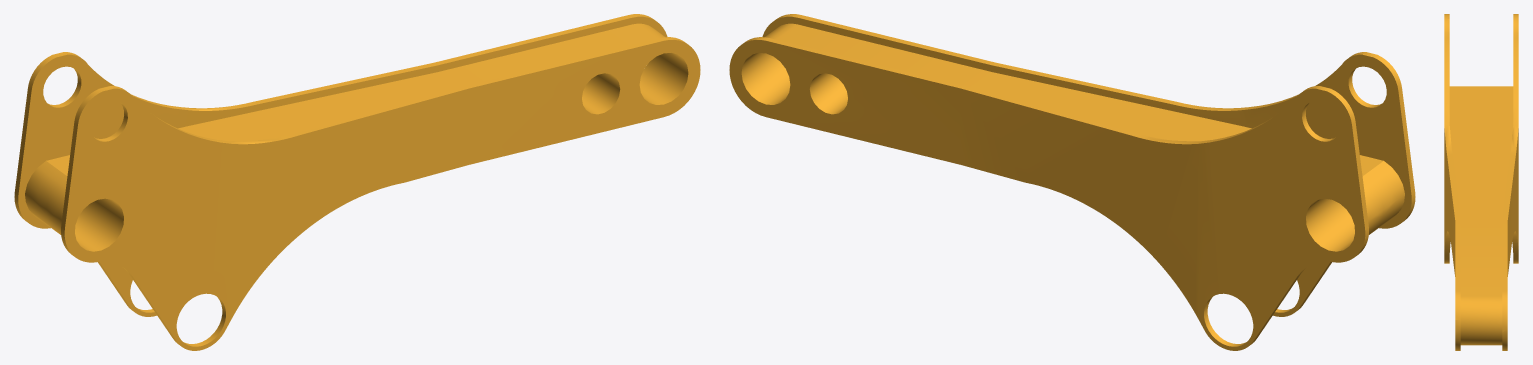
The model's file is body3.dae.
3 renders of one model, left to right at view 1: azimuth 30°, elevation 25°; view 2: azimuth 150°, elevation 25°; view 3: azimuth 270°, elevation 25°, orthographic. The views are drawn at different scales.
Visible parts, largest first — view 1: Rhinoceros_Binary_STL___Jul__9_2019__; view 2: Rhinoceros_Binary_STL___Jul__9_2019__; view 3: Rhinoceros_Binary_STL___Jul__9_2019__.
Boxes of the visible parts, x1,y1,x2,y2 form: Rhinoceros_Binary_STL___Jul__9_2019__: (14, 14, 700, 350); Rhinoceros_Binary_STL___Jul__9_2019__: (729, 14, 1415, 350); Rhinoceros_Binary_STL___Jul__9_2019__: (1444, 14, 1518, 350).
Size of the model in its own units: 100 by 13.5 by 42.02.
